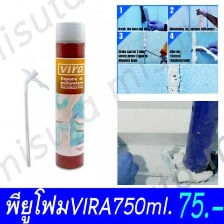aerosol_cans: (51, 19, 88, 171)
